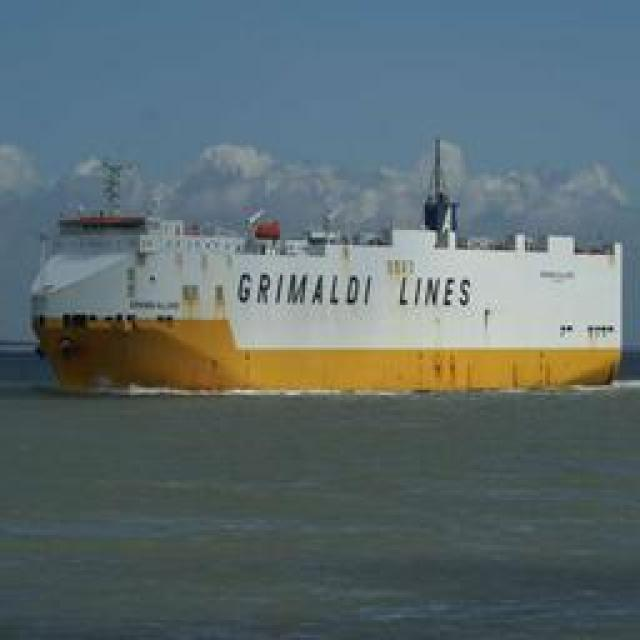CIV_Ship: (30, 140, 638, 388)
